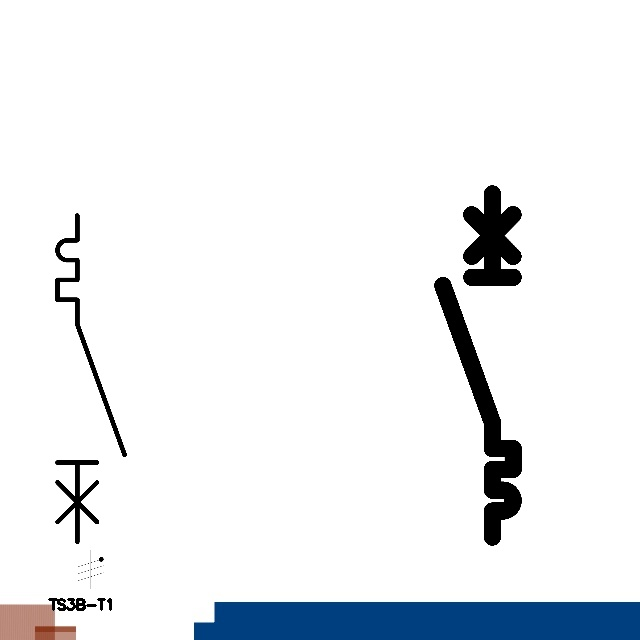interruptor_termomagnetico: (434, 185, 522, 546), (49, 207, 133, 550)
